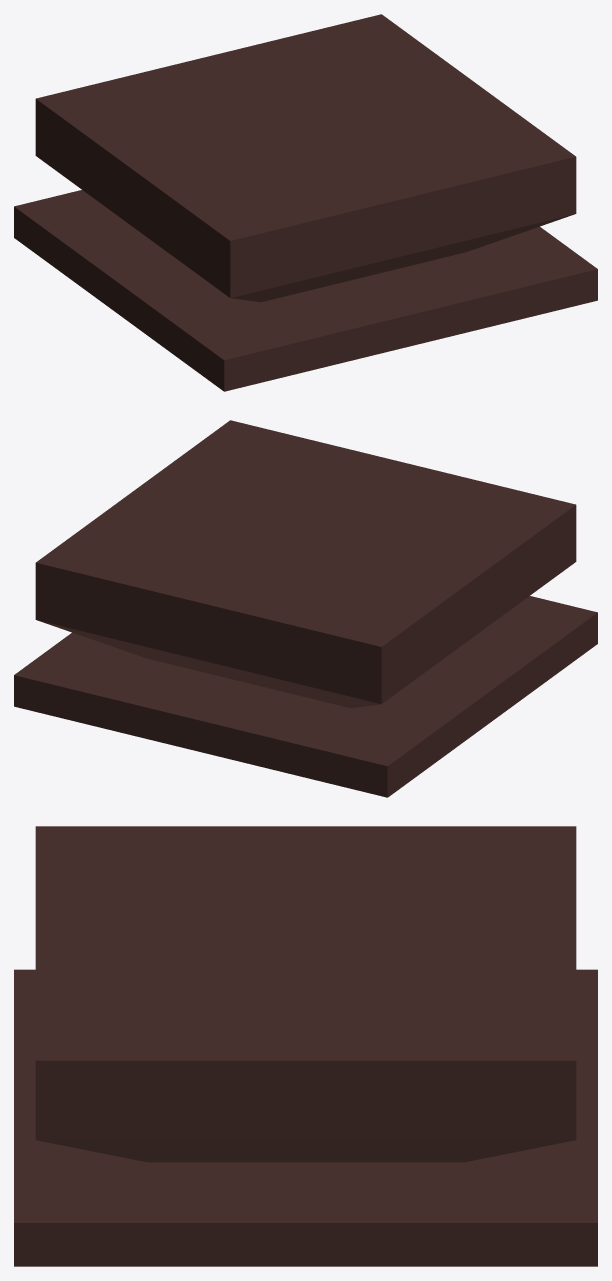
The model's file is CatwalkPlatform.glb.
3 renders of one model, top to bottom at view 1: azimuth 30°, elevation 25°; view 2: azimuth 150°, elevation 25°; view 3: azimuth 270°, elevation 25°, orthographic. The views are drawn at different scales.
Visible parts, largest first — view 1: CatWalk.002; view 2: CatWalk.002; view 3: CatWalk.002.
Boxes of the visible parts, x1,y1,x2,y2 form: CatWalk.002: [14, 14, 597, 391]; CatWalk.002: [14, 420, 597, 797]; CatWalk.002: [14, 826, 597, 1266].
Size of the model in its own units: 2.99 by 1.08 by 2.91.
